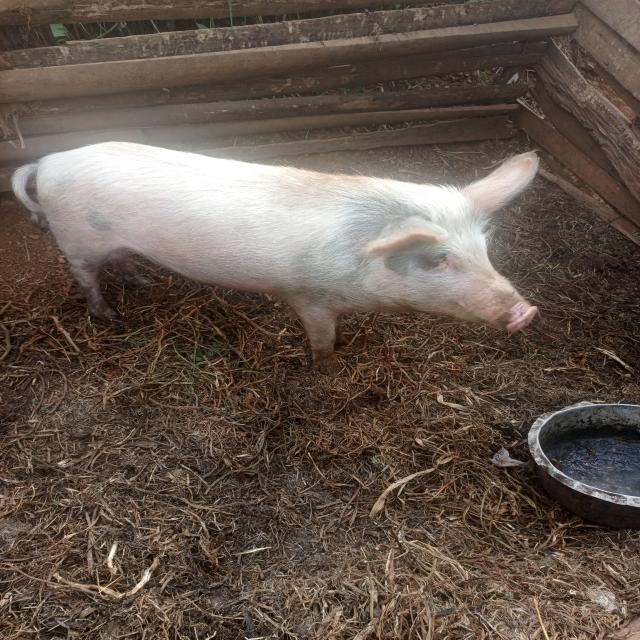pig: (0, 96, 595, 411)
